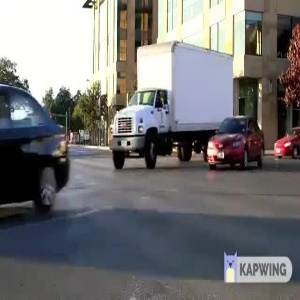car: (203, 114, 269, 169)
semi: (105, 46, 208, 170)
